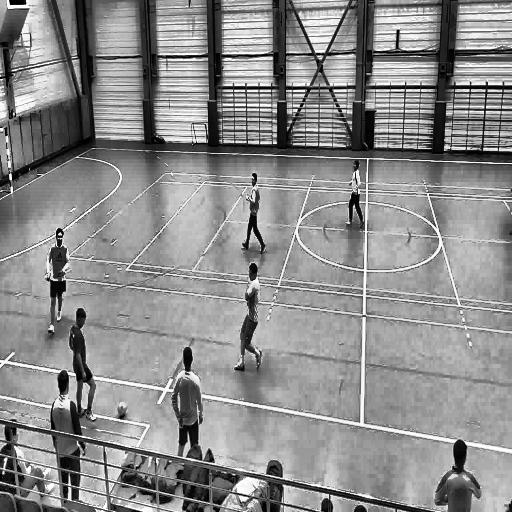ball: (117, 399, 129, 420)
player: (53, 369, 85, 503), (69, 307, 99, 427), (234, 264, 264, 380), (173, 344, 202, 456), (43, 224, 69, 339), (238, 170, 268, 257), (343, 158, 370, 236)
